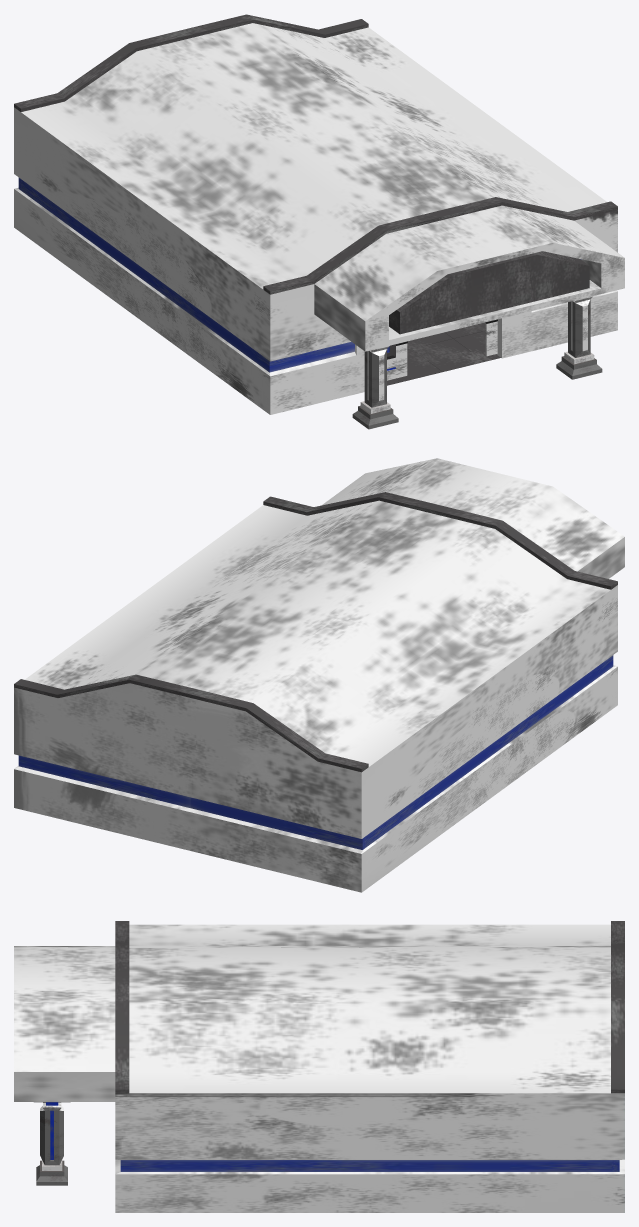
File: BuildingBoss_Asset.fbx
3 renders of one model, top to bottom at view 1: azimuth 30°, elevation 25°; view 2: azimuth 150°, elevation 25°; view 3: azimuth 270°, elevation 25°, orthographic.
Parts seen in each view (by area): view 1: BuildingBoss_Asset, pPlane1, CityPillar_Asset1, CityPillar_Asset2, SlidingDoor_Left_Asset1; view 2: BuildingBoss_Asset; view 3: BuildingBoss_Asset, CityPillar_Asset2.
Part boxes in pixels (x1,y1,x2,y2): BuildingBoss_Asset: [14, 14, 624, 414]; pPlane1: [387, 322, 500, 385]; CityPillar_Asset1: [352, 345, 398, 429]; CityPillar_Asset2: [556, 296, 602, 379]; SlidingDoor_Left_Asset1: [387, 341, 407, 380]; BuildingBoss_Asset: [14, 458, 624, 892]; BuildingBoss_Asset: [14, 921, 624, 1212]; CityPillar_Asset2: [34, 1102, 70, 1185].
Size of the model in its own units: 45 by 19.36 by 68.86.
